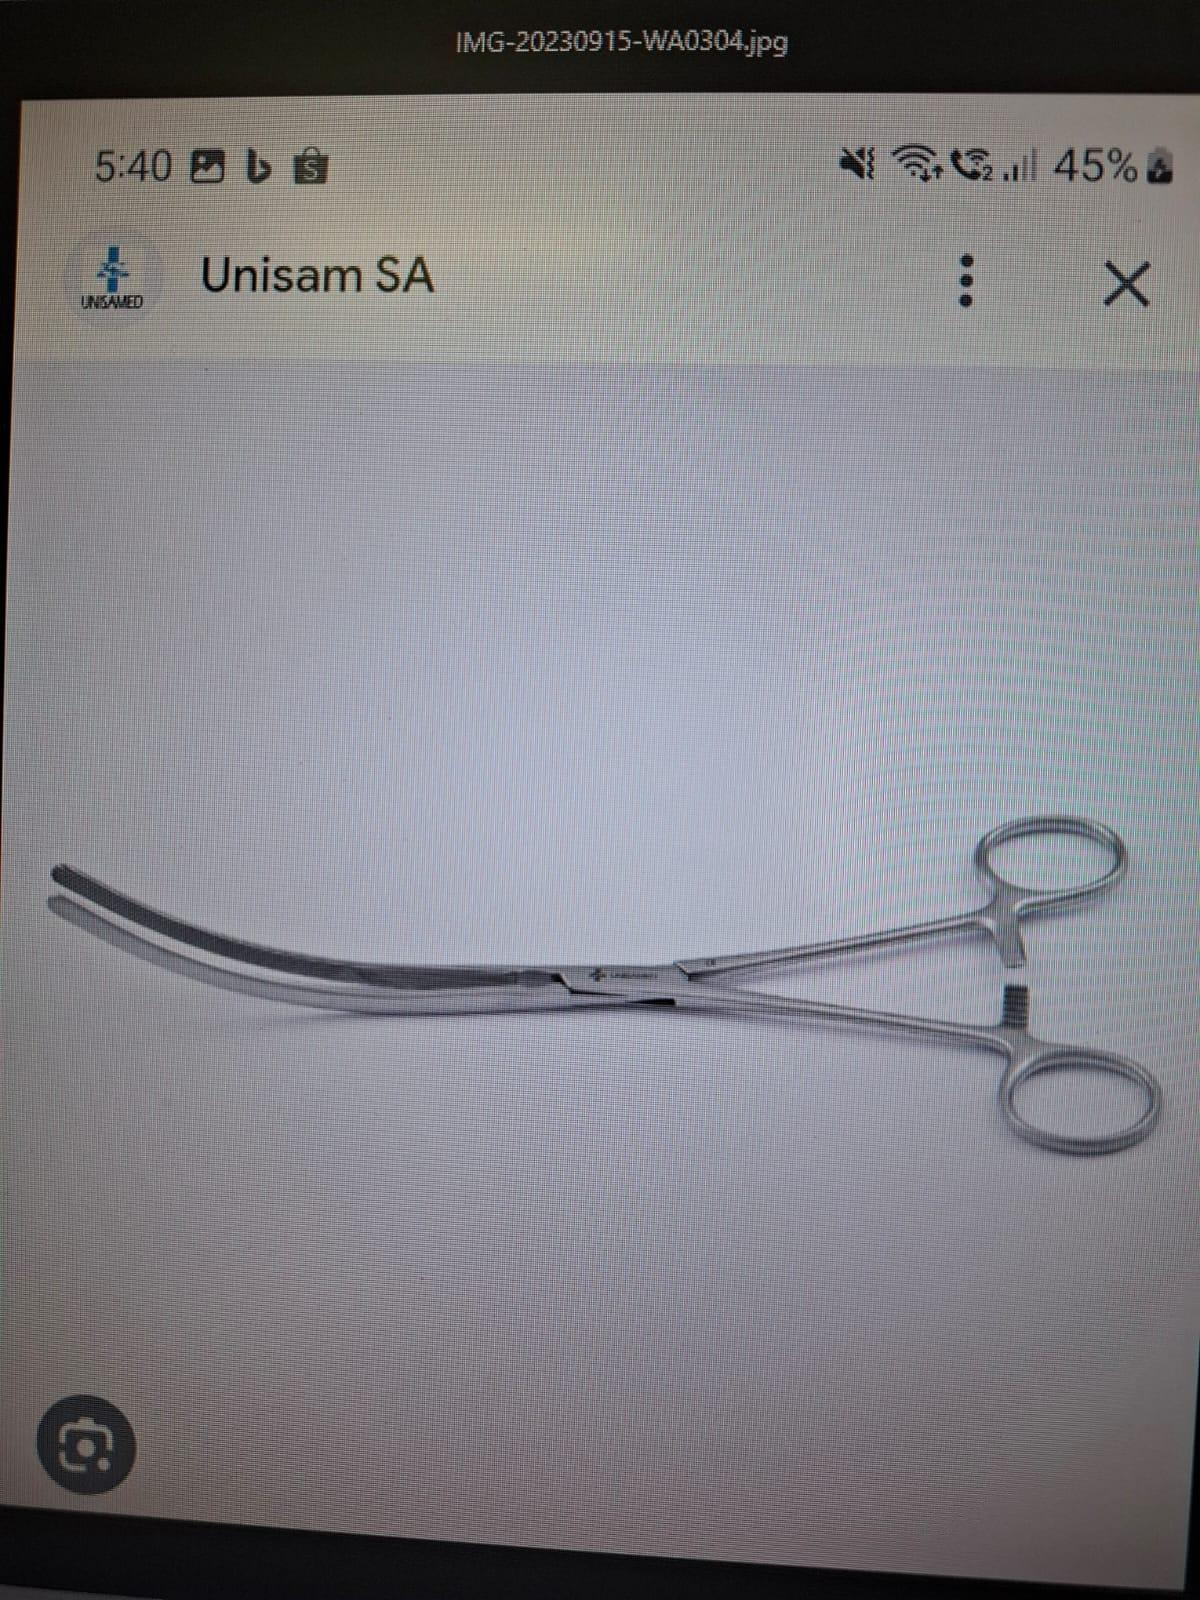Doyel Instestinal Forceps: (43, 805, 1182, 1183)
